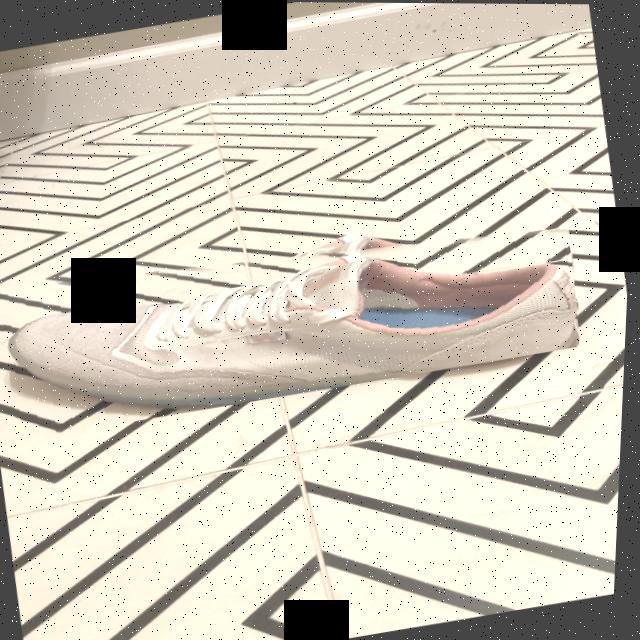shoe: (0, 190, 592, 444)
